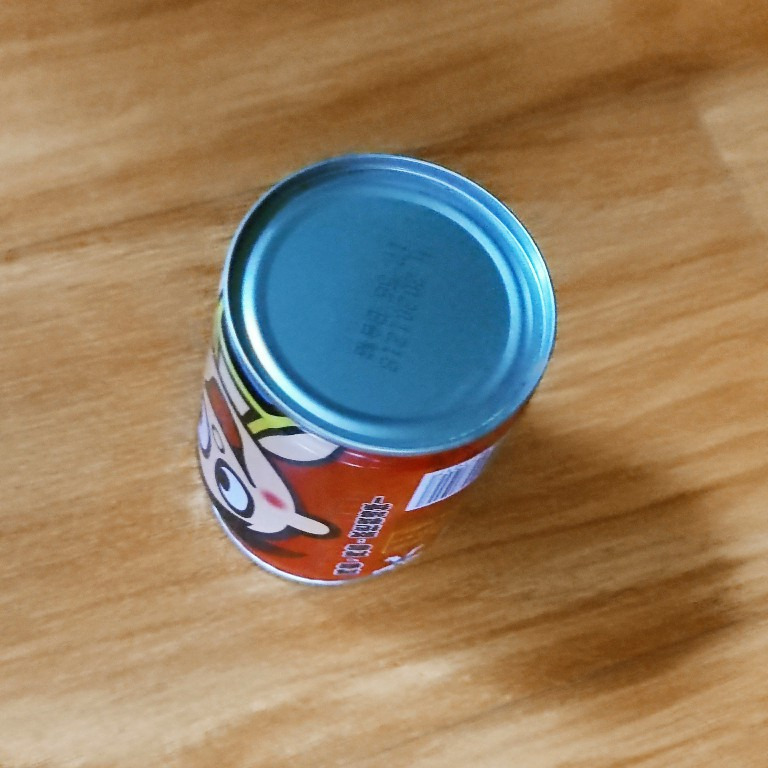can: (191, 148, 560, 591)
